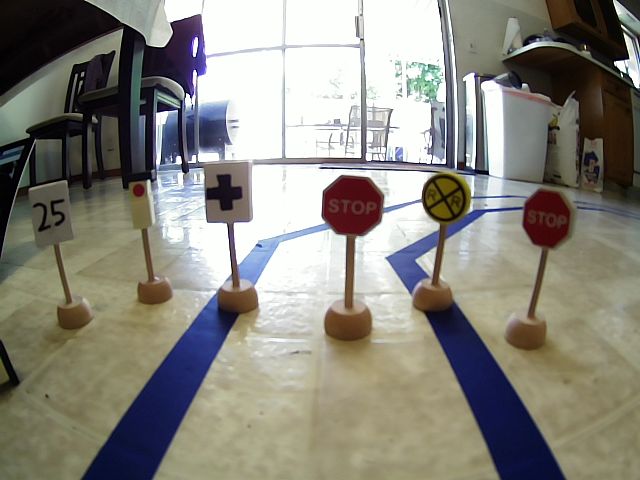25: (30, 182, 77, 246)
plus: (205, 159, 253, 223)
rail: (422, 172, 472, 224)
red: (123, 167, 157, 230)
stop: (322, 174, 385, 237), (522, 187, 577, 253)
